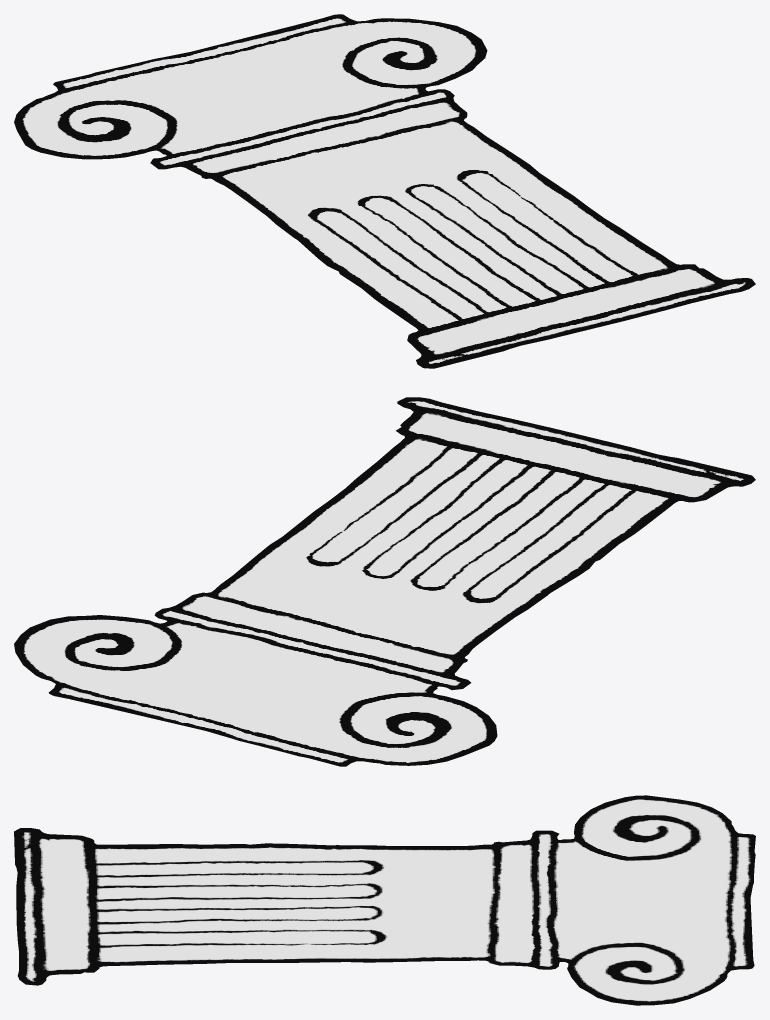
The model's file is podium.fbx.
3 views of the same model, one above another, from view 1: azimuth 30°, elevation 25°; view 2: azimuth 150°, elevation 25°; view 3: azimuth 270°, elevation 25° (orthographic). The views are drawn at different scales.
Parts seen in each view (by area): view 1: podium; view 2: podium; view 3: podium.
Part boxes in pixels (x1,y1,x2,y2): podium: [14, 14, 755, 368]; podium: [14, 397, 755, 766]; podium: [14, 795, 755, 1005].
Size of the model in its own units: 9.92 by 3.29e-15 by 14.81.
Materials: 1 (1 with a texture image).
